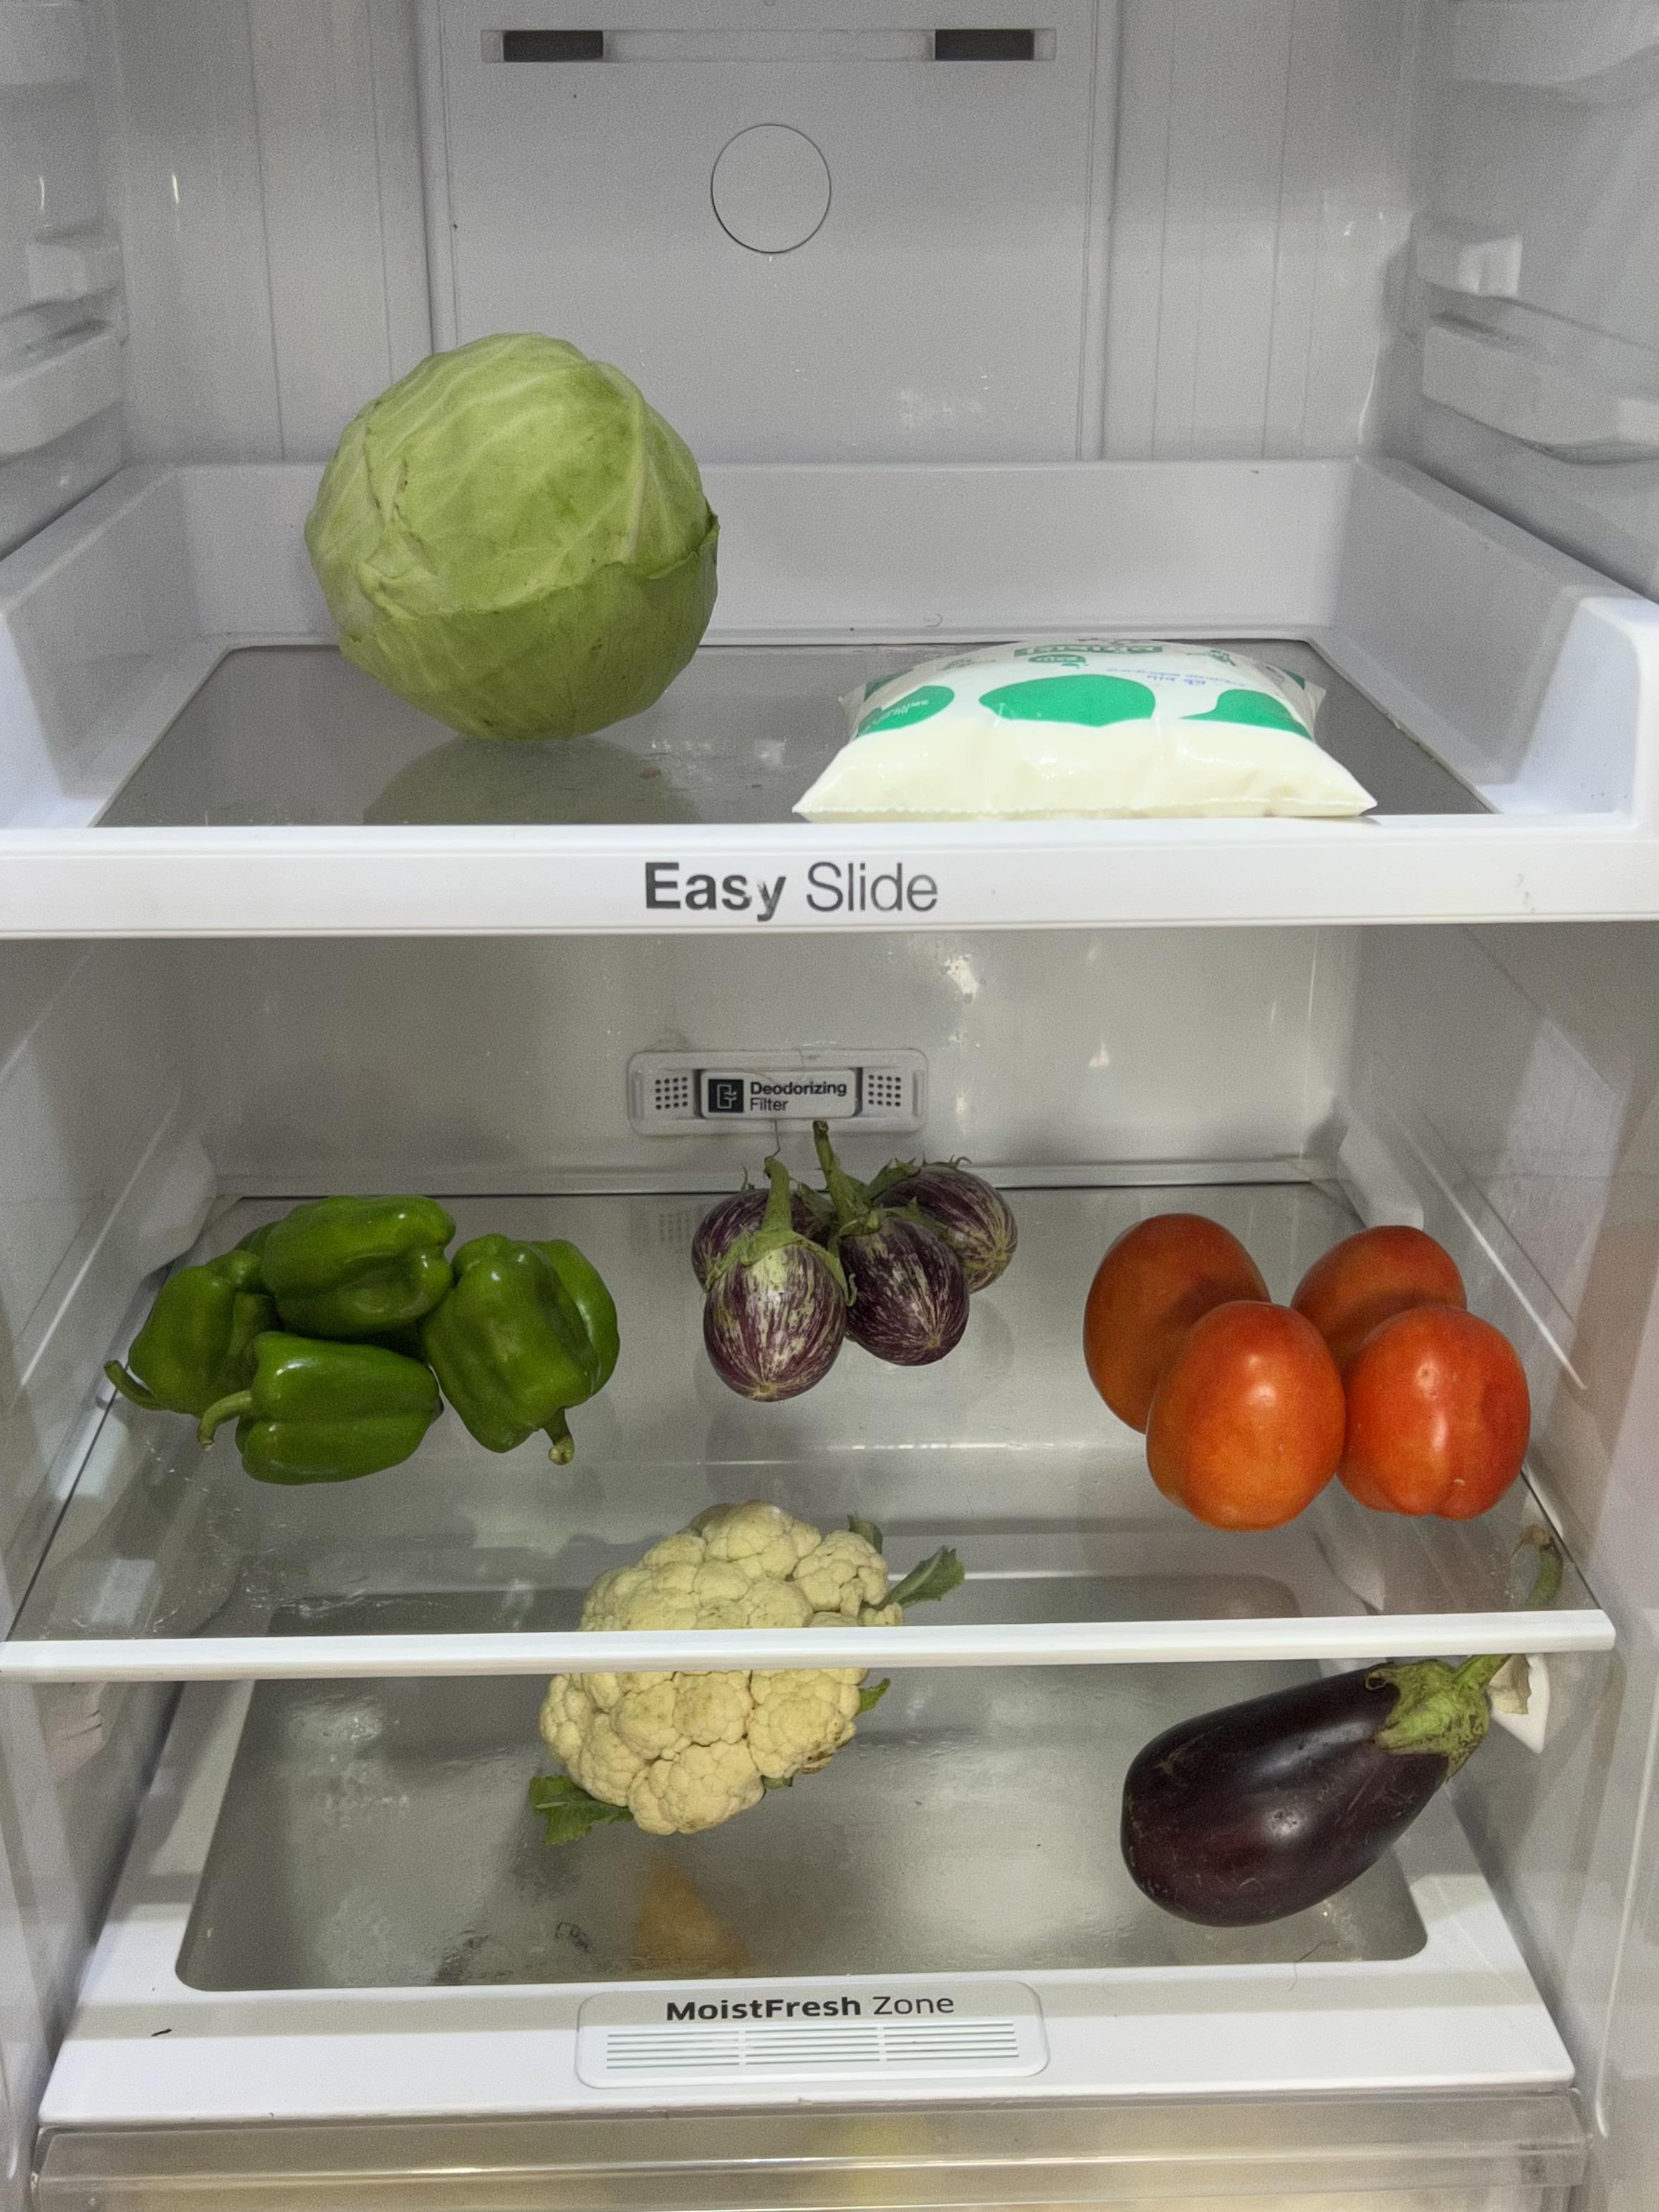bringal: (1117, 1649, 1534, 1930), (685, 1137, 1018, 1404)
cabbage: (300, 319, 723, 752)
capsicum: (131, 1191, 620, 1498)
cauliflower: (533, 1493, 910, 1834)
milk: (816, 631, 1366, 824)
tomato: (1075, 1202, 1539, 1540)
